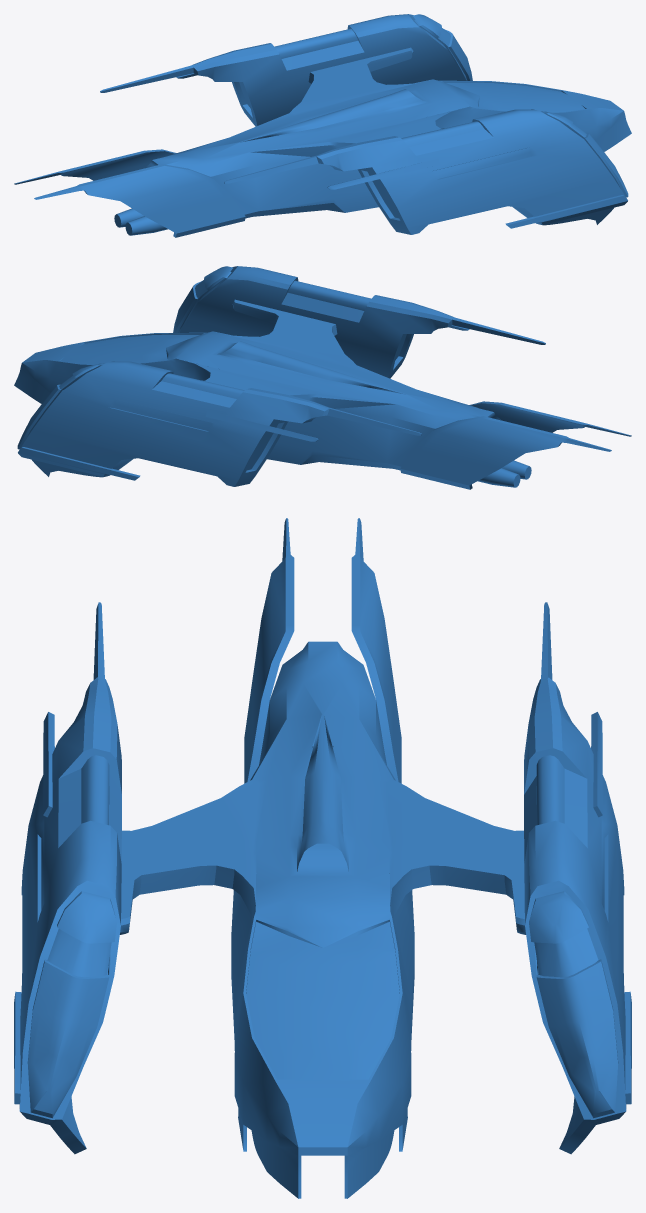
Rendered from predator.obj.
3 renders of one model, top to bottom at view 1: azimuth 30°, elevation 25°; view 2: azimuth 150°, elevation 25°; view 3: azimuth 270°, elevation 25°, orthographic. The views are drawn at different scales.
Parts seen in each view (by area): view 1: predator; view 2: predator; view 3: predator.
Boxes of the visible parts, left/top/right/bottom form: predator: left=14, top=14, right=631, bottom=237; predator: left=14, top=266, right=631, bottom=489; predator: left=14, top=518, right=631, bottom=1198.
Size of the model in its own units: 18.85 by 3.99 by 9.31.
